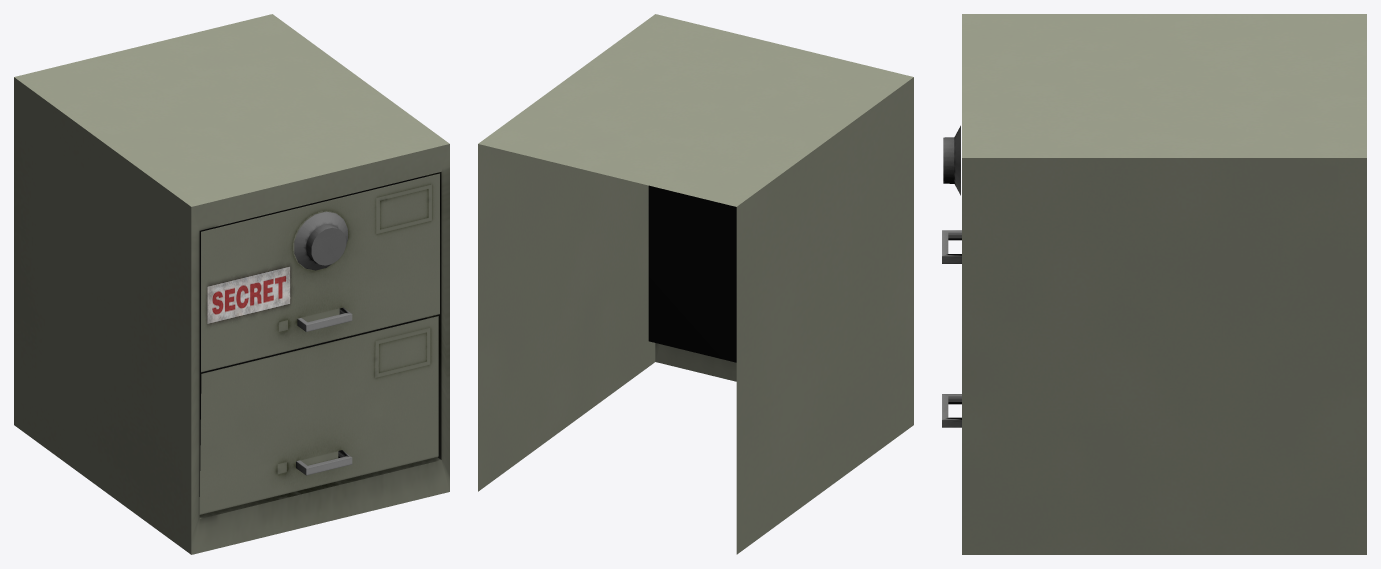
File: Office_Safe2Drawer_LowPoly_1.fbx
The picture shows the model from 3 angles, left to right: view 1: azimuth 30°, elevation 25°; view 2: azimuth 150°, elevation 25°; view 3: azimuth 270°, elevation 25°; orthographic projection. The views are drawn at different scales.
Visible parts, largest first — view 1: Office_safe2Drawer; view 2: Office_safe2Drawer; view 3: Office_safe2Drawer.
Part boxes in pixels (x1,y1,x2,y2): Office_safe2Drawer: (14,14,449,554); Office_safe2Drawer: (478,14,913,554); Office_safe2Drawer: (942,14,1366,554).
Size of the model in its own units: 47.03 by 60.51 by 58.66.
